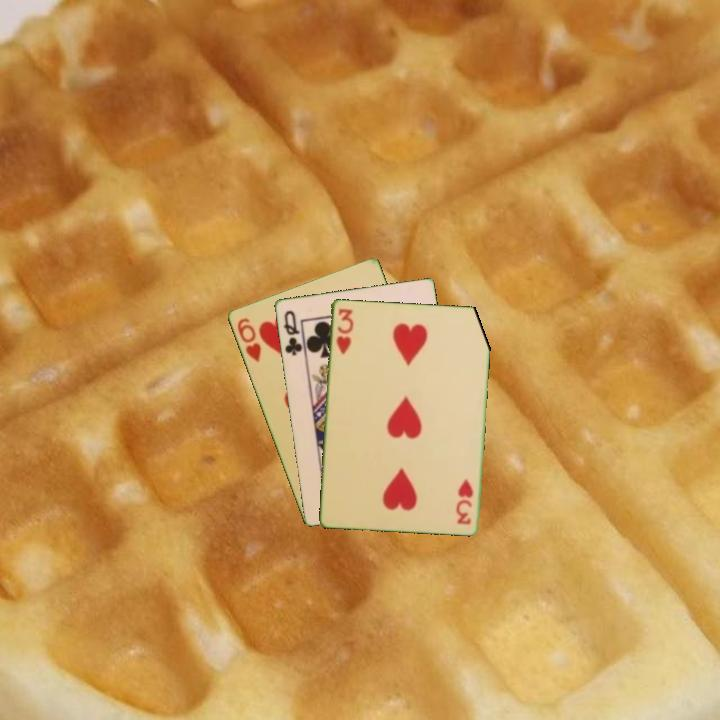3h: (332, 305, 356, 357), (453, 475, 476, 527)
6h: (233, 314, 264, 365)
Qc: (280, 307, 307, 358)
